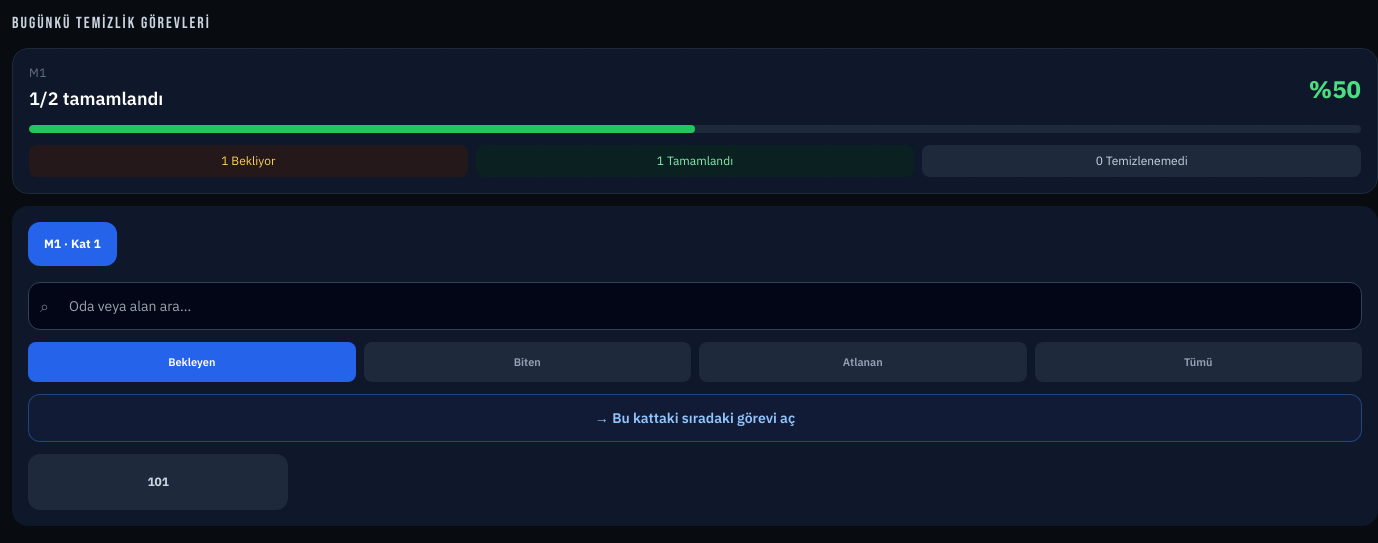
Test: AVS sekme parçaları smoke › TasksTab oda araması ve durum filtresiyle listeyi daraltır
This screenshot has width=1378, height=543.
Expected: the button "101" is shown, x1=28 y1=454 x2=288 y2=510
Expected: the text "102 ✓" is not shown
Click the button "Tümü" at {"x": 1198, "y": 362}, box x1=1034 y1=342 x2=1362 y2=382
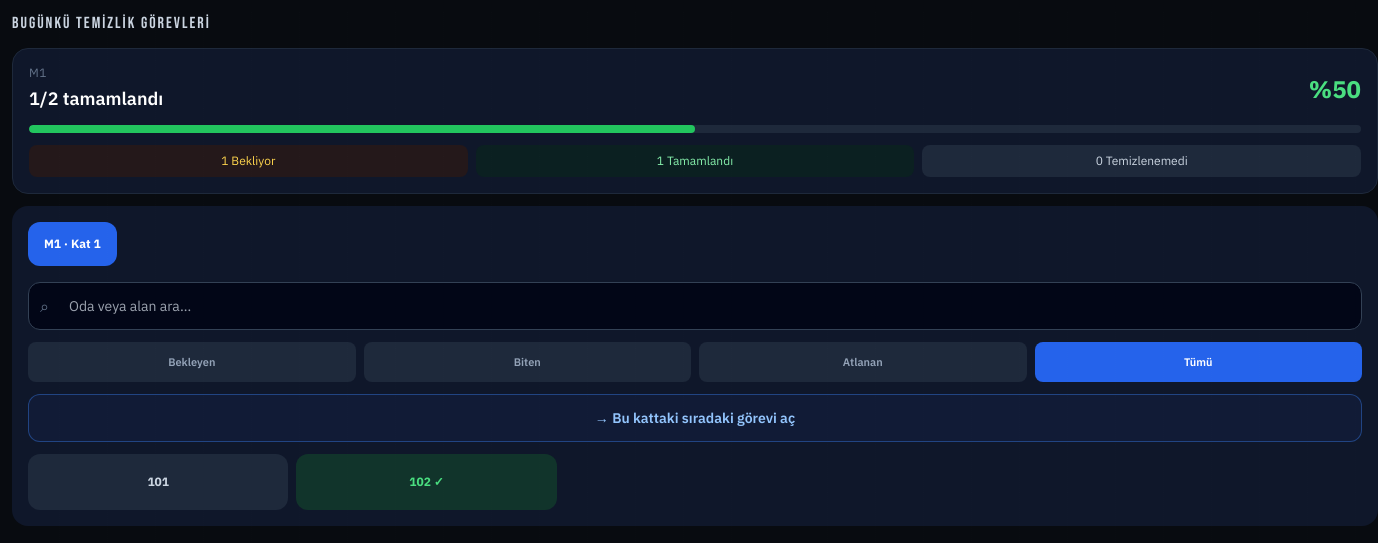
Type "102" into the search field with placeholder "Oda veya alan ara…" at {"x": 695, "y": 306}, box x1=28 y1=282 x2=1362 y2=330
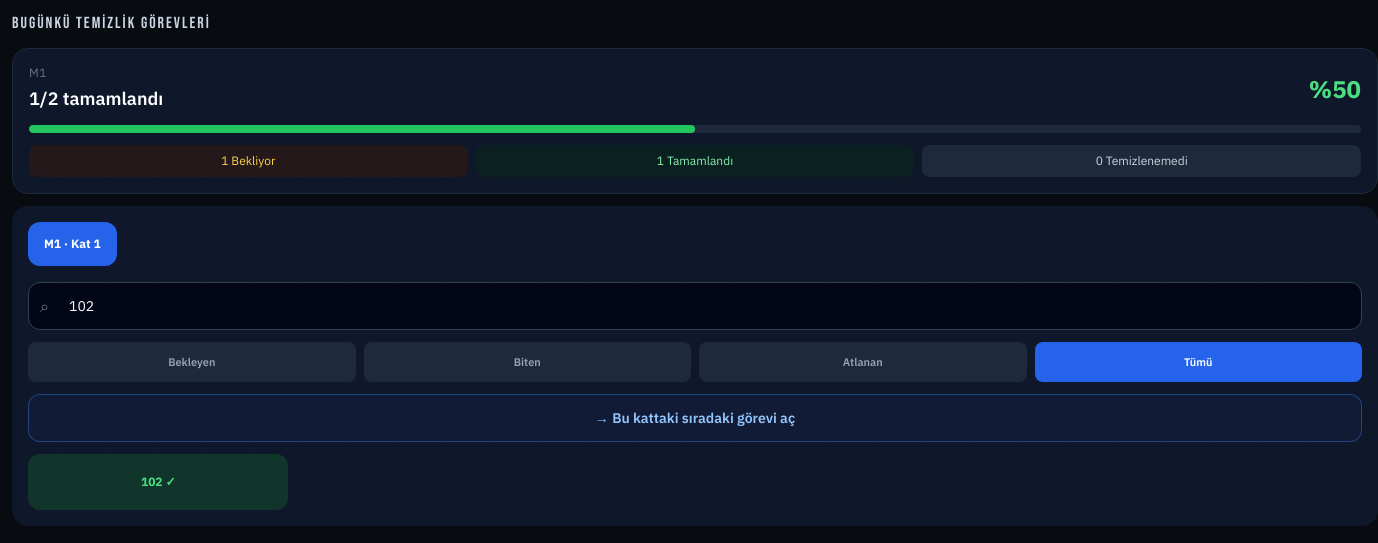
Now the button "102 ✓" is shown, box x1=28 y1=454 x2=288 y2=510
Now the button "101" is gone
